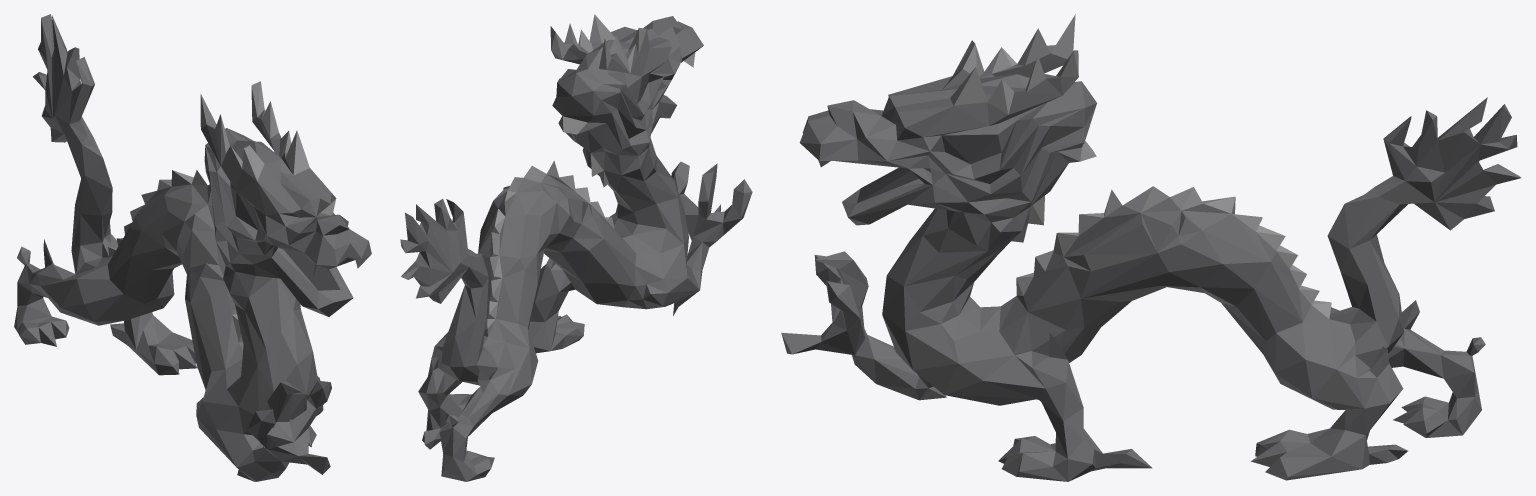
File: ChineseStatueDragon_01.glb
3 renders of one model, left to right at view 1: azimuth 30°, elevation 25°; view 2: azimuth 150°, elevation 25°; view 3: azimuth 270°, elevation 25°, orthographic. The views are drawn at different scales.
Parts seen in each view (by area): view 1: ChineseStatueDragon_01; view 2: ChineseStatueDragon_01; view 3: ChineseStatueDragon_01.
Boxes of the visible parts, box(x1,y1,x2,y2) form: ChineseStatueDragon_01: box(14, 14, 371, 481); ChineseStatueDragon_01: box(400, 14, 752, 481); ChineseStatueDragon_01: box(781, 14, 1521, 481).
Size of what is drawn, in the model's own units: 0.7951 by 1.86 by 2.99.
1 material, 1 textured.
